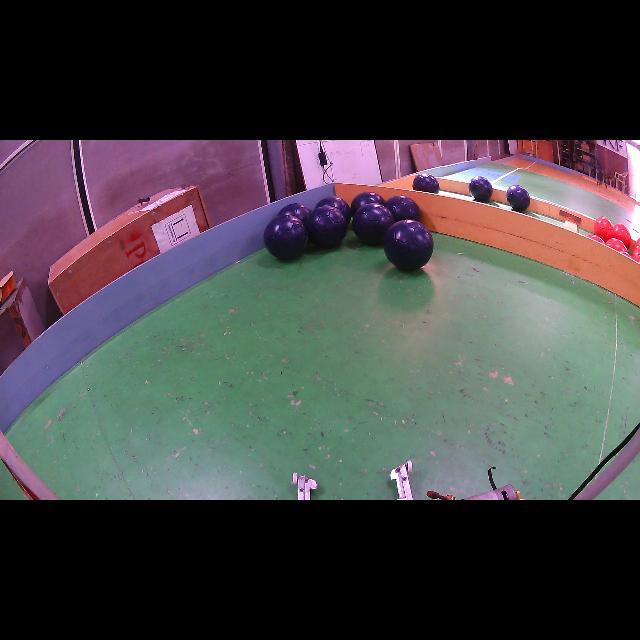B: (384, 220, 434, 271), (264, 215, 308, 260), (306, 206, 348, 249), (352, 204, 395, 245), (316, 196, 351, 223), (385, 195, 420, 221), (350, 191, 385, 216), (278, 202, 311, 222), (506, 185, 530, 211), (469, 176, 492, 201), (412, 174, 440, 194)
R: (612, 224, 631, 248), (594, 216, 612, 241), (605, 238, 628, 252), (631, 239, 640, 262), (588, 234, 605, 244)
